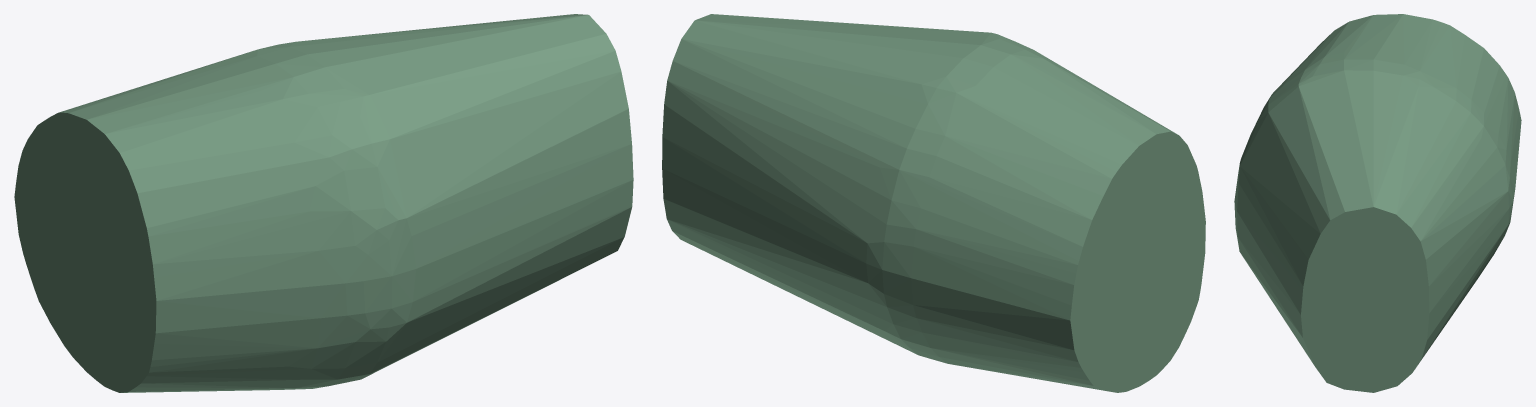
3 views of the same model, side by side, from view 1: azimuth 30°, elevation 25°; view 2: azimuth 150°, elevation 25°; view 3: azimuth 270°, elevation 25° (orthographic). The views are drawn at different scales.
Size of the model in its own units: 0.0492 by 0.03 by 0.0309.
